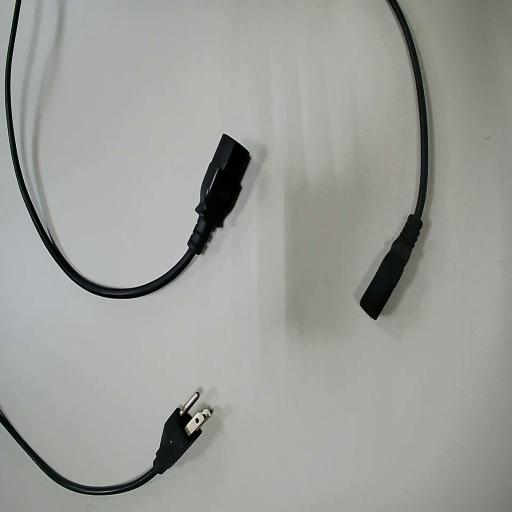wire: (6, 0, 249, 297), (360, 0, 427, 318), (0, 408, 200, 493)
